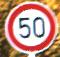Speed Limit -50-: (0, 1, 59, 56)
